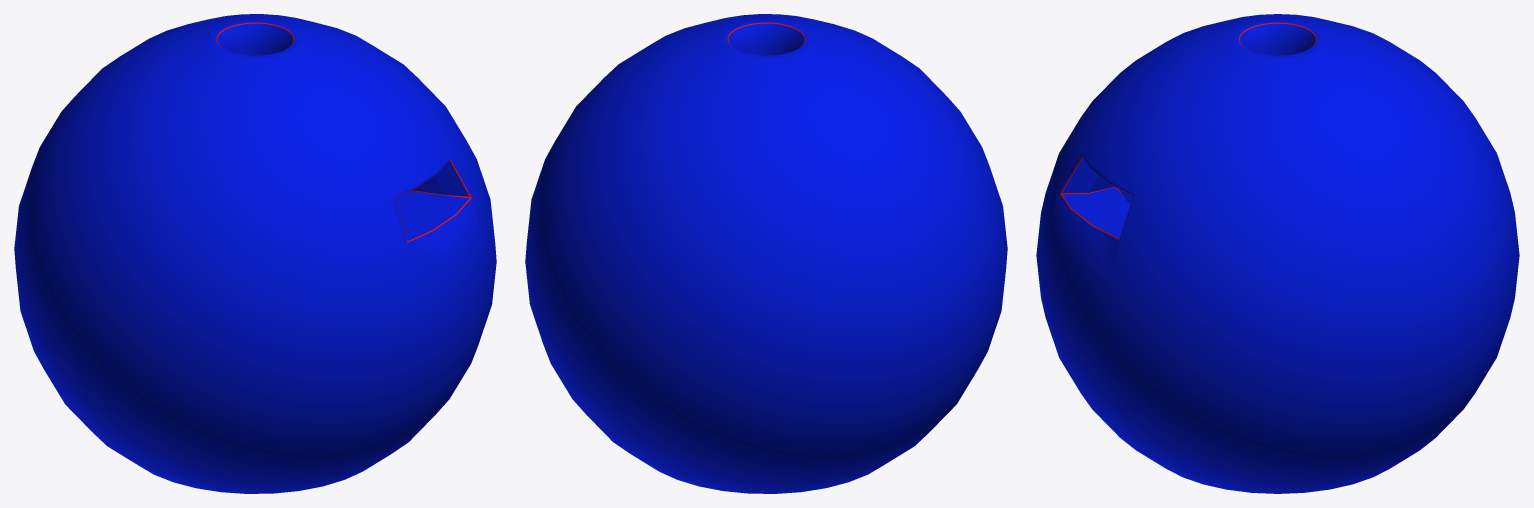
3 renders of one model, left to right at view 1: azimuth 30°, elevation 25°; view 2: azimuth 150°, elevation 25°; view 3: azimuth 270°, elevation 25°, orthographic.
Visible parts, largest first — view 1: L9_Sphere; view 2: L9_Sphere; view 3: L9_Sphere.
Boxes of the visible parts, x1=… form: L9_Sphere: x1=14, y1=14, x2=496, y2=493; L9_Sphere: x1=525, y1=14, x2=1007, y2=493; L9_Sphere: x1=1036, y1=14, x2=1519, y2=493.
Size of the model in its own units: 3000 by 2728 by 3000.
